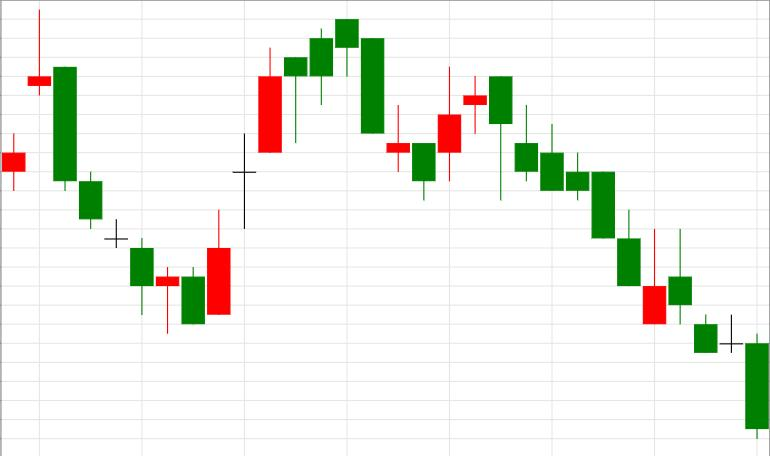hanging_man_fall: (387, 67, 512, 200)
inverse_hammer_rise: (490, 76, 666, 325)
